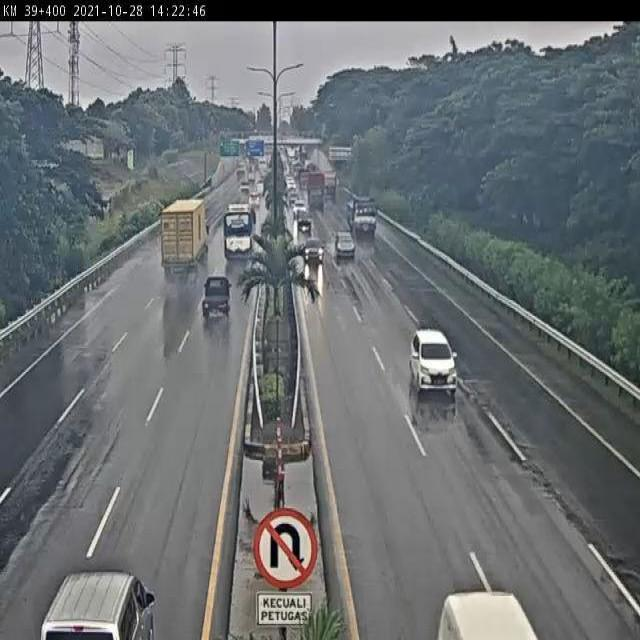bus-l-: (224, 198, 258, 254)
car: (201, 274, 234, 318)
truck-xl-: (159, 198, 209, 278)
